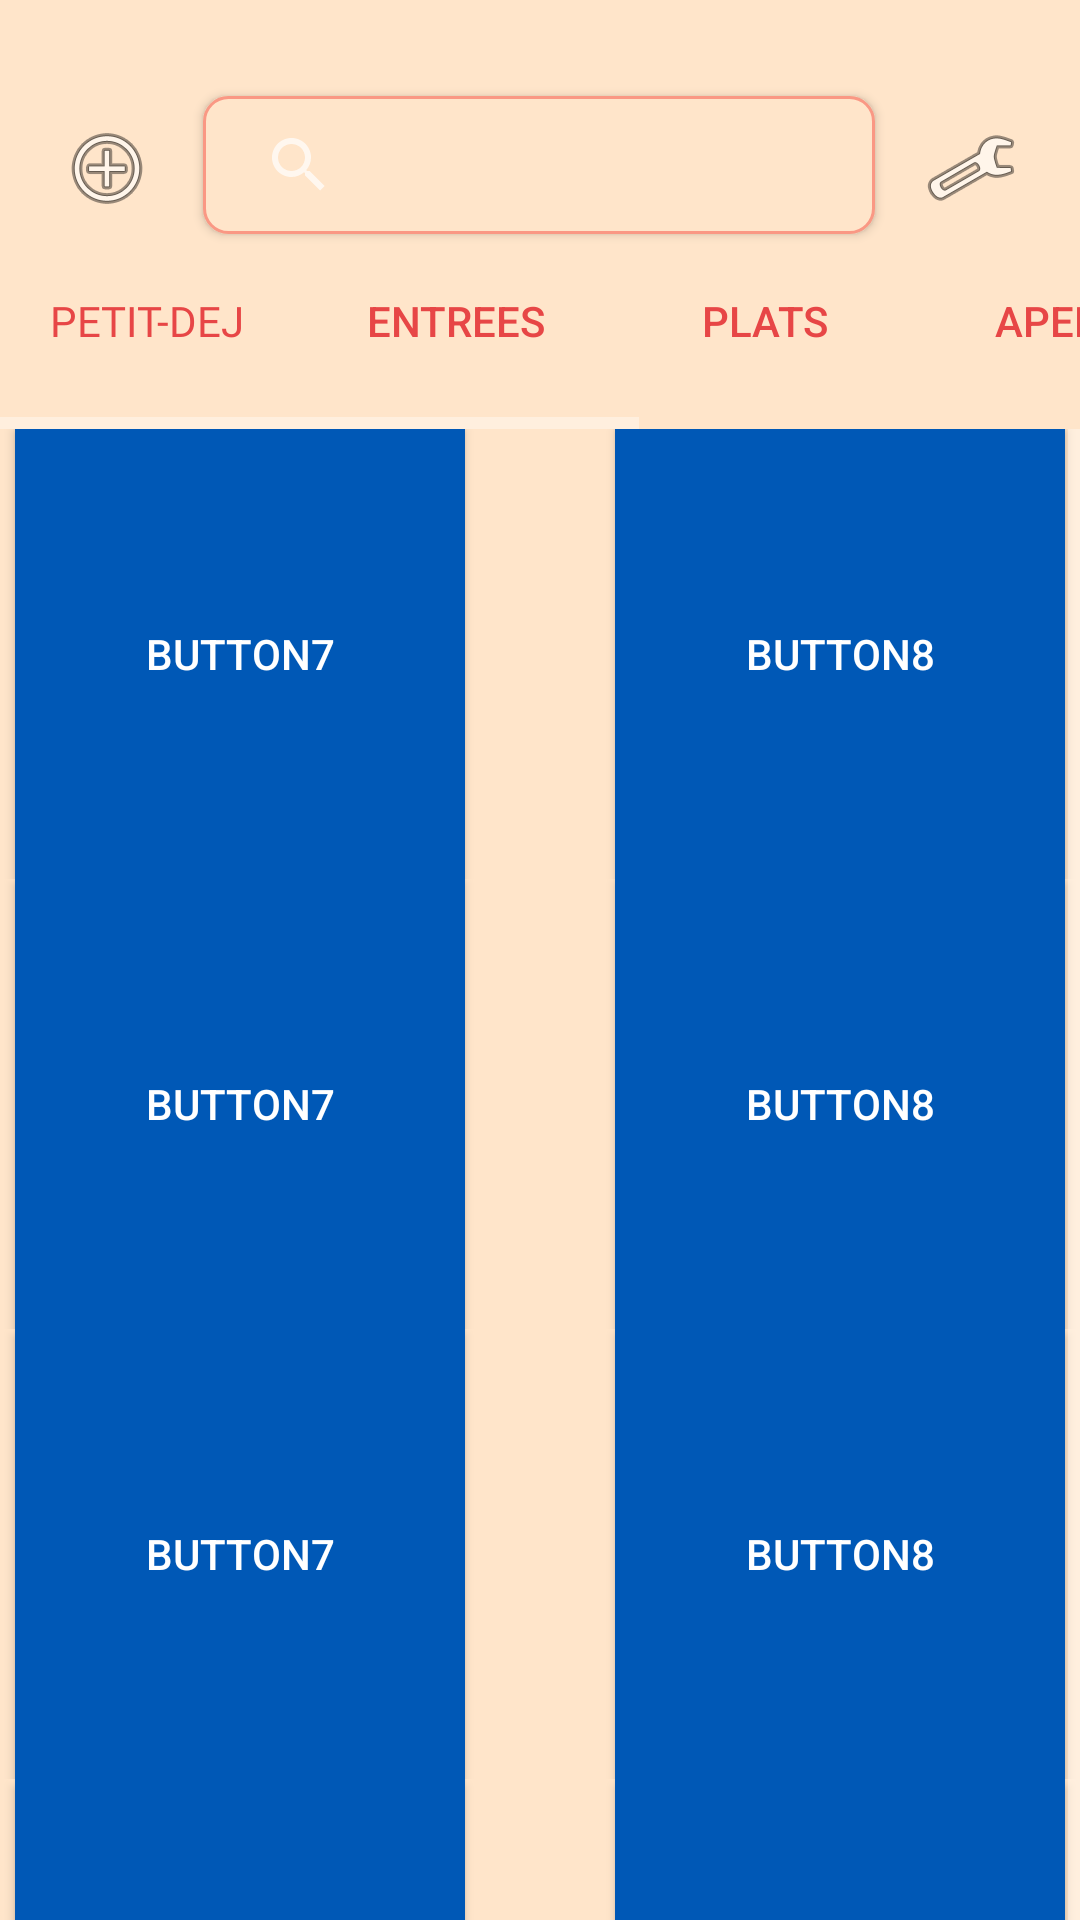

Icons on this 1080px x 1920px Android screen, each with the point to tap as point (x, y):
add: point (107, 168)
manage: point (971, 168)
